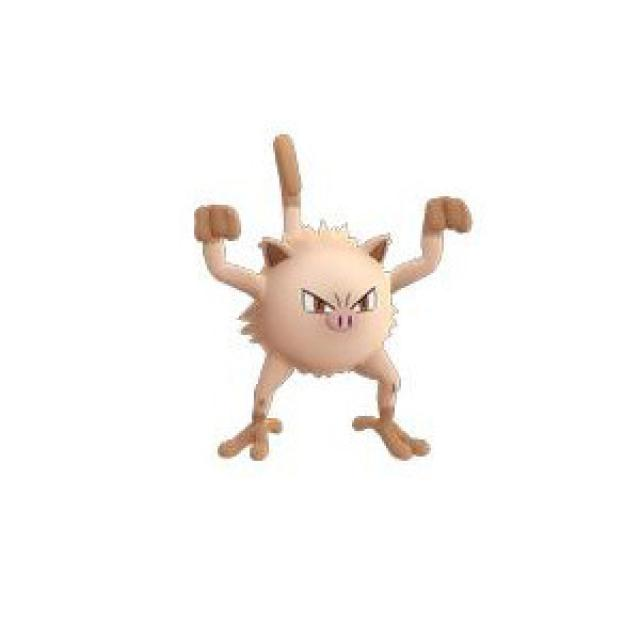Mankey: (191, 186, 468, 458)
